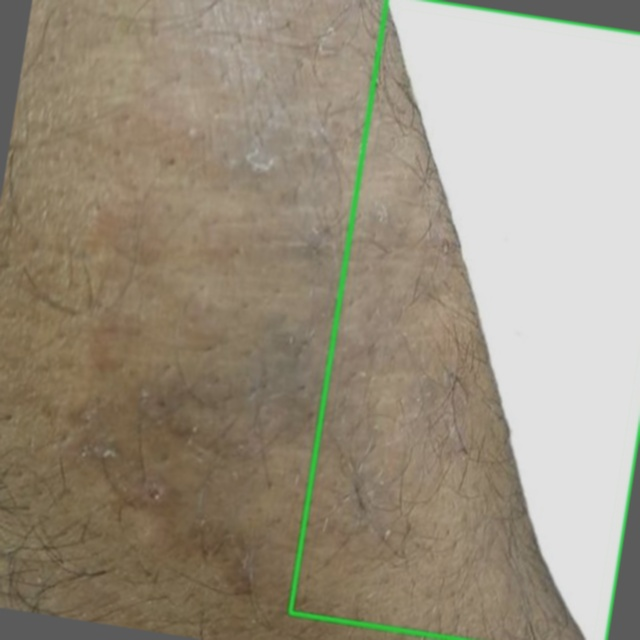Tinea Corporis: (290, 0, 639, 639)
